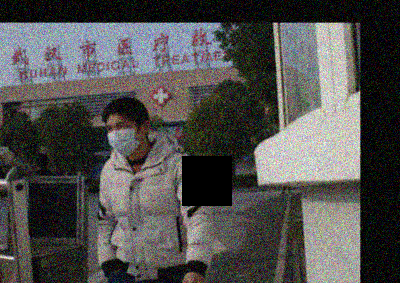with_mask: (105, 120, 141, 154)
